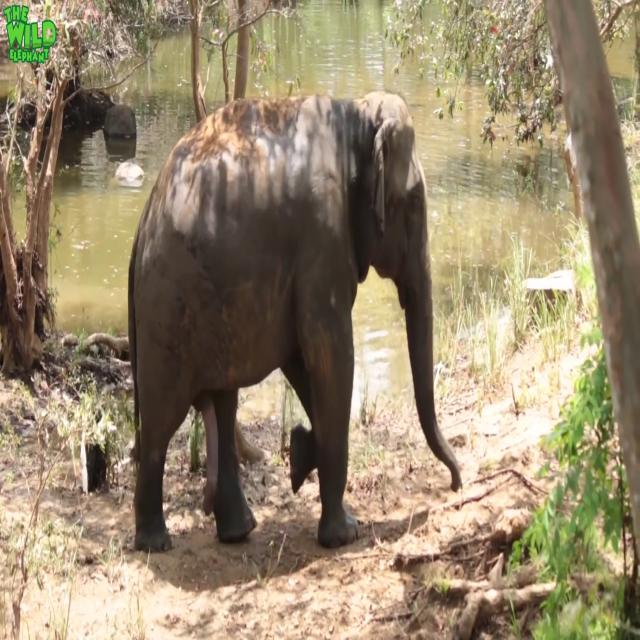Elephant: (126, 89, 462, 552)
